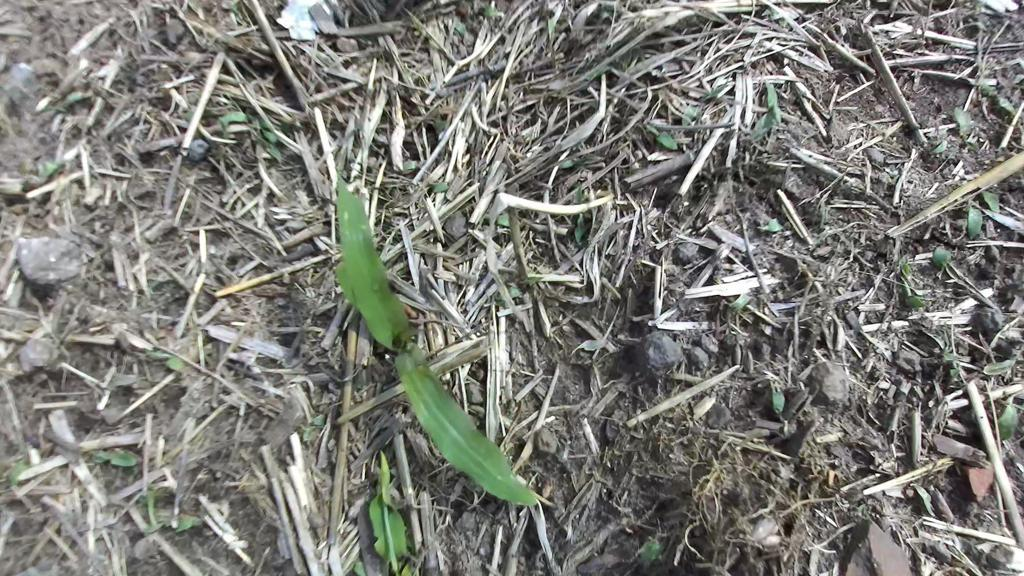BroWeed: (749, 81, 791, 149), (43, 82, 95, 120), (904, 479, 946, 521), (640, 117, 683, 155), (250, 127, 288, 166), (891, 275, 926, 315), (136, 496, 178, 528), (89, 444, 142, 469), (143, 344, 187, 374), (730, 422, 773, 452), (996, 391, 1020, 441), (742, 513, 780, 544), (946, 102, 977, 140), (217, 106, 252, 139), (612, 41, 646, 74), (299, 410, 329, 447), (170, 505, 208, 534), (1, 454, 33, 488), (724, 504, 756, 537), (939, 343, 973, 371), (638, 541, 664, 576), (568, 335, 609, 356), (143, 489, 163, 532), (570, 212, 592, 246), (971, 68, 998, 94), (701, 82, 733, 103), (758, 216, 785, 240), (929, 242, 953, 269), (994, 91, 1017, 119), (679, 101, 700, 130), (966, 206, 983, 241), (925, 124, 951, 146), (991, 56, 1024, 73), (897, 253, 913, 284), (991, 69, 1014, 90), (585, 60, 606, 83), (243, 112, 269, 130), (40, 159, 61, 179), (981, 190, 999, 213), (401, 158, 425, 175), (771, 390, 787, 415), (259, 126, 280, 145), (495, 210, 516, 229), (927, 138, 949, 156), (855, 502, 873, 523), (571, 181, 586, 206), (847, 365, 866, 383), (350, 558, 368, 576), (18, 157, 38, 173), (980, 96, 993, 120), (981, 83, 1001, 98), (202, 108, 225, 121), (526, 265, 540, 286), (483, 4, 503, 18), (429, 180, 449, 194), (777, 16, 793, 32), (508, 284, 524, 300), (909, 286, 931, 297), (434, 114, 446, 134), (760, 5, 775, 20), (948, 361, 961, 378), (175, 110, 195, 121), (456, 18, 466, 39), (548, 17, 557, 40), (153, 487, 171, 498), (491, 293, 503, 309), (769, 9, 782, 21), (151, 4, 167, 13), (886, 168, 899, 178), (412, 29, 421, 38)
Maize: (289, 172, 540, 536)
